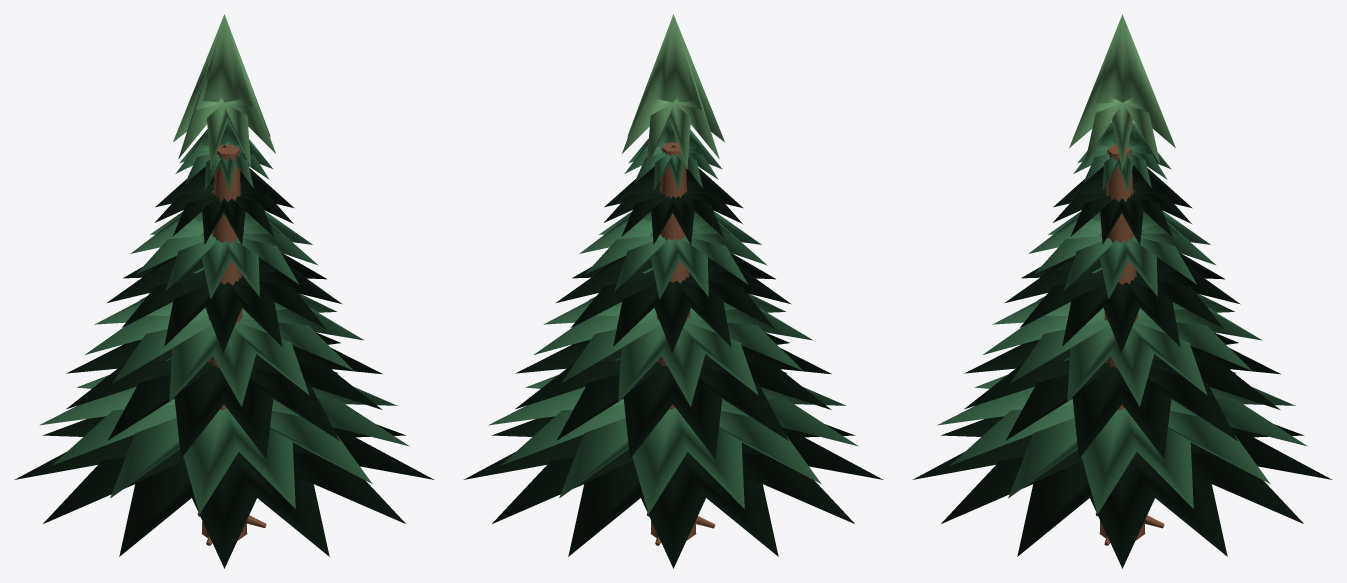
The model's file is alpine-pine.glb.
The picture shows the model from 3 angles, left to right: view 1: azimuth 30°, elevation 25°; view 2: azimuth 150°, elevation 25°; view 3: azimuth 270°, elevation 25°; orthographic projection.
Visible parts, largest first — view 1: Merged_foliage-deep, Merged_foliage, Merged_foliage-light, Merged_bark; view 2: Merged_foliage-deep, Merged_foliage, Merged_foliage-light, Merged_bark; view 3: Merged_foliage-deep, Merged_foliage, Merged_foliage-light, Merged_bark.
Boxes of the visible parts, x1=… form: Merged_foliage-deep: x1=14, y1=145, x2=434, y2=568; Merged_foliage: x1=39, y1=121, x2=409, y2=513; Merged_foliage-light: x1=173, y1=14, x2=275, y2=169; Merged_bark: x1=197, y1=145, x2=266, y2=545; Merged_foliage-deep: x1=463, y1=145, x2=883, y2=568; Merged_foliage: x1=488, y1=121, x2=858, y2=513; Merged_foliage-light: x1=622, y1=14, x2=724, y2=169; Merged_bark: x1=647, y1=142, x2=715, y2=545; Merged_foliage-deep: x1=912, y1=165, x2=1332, y2=568; Merged_foliage: x1=937, y1=121, x2=1307, y2=513; Merged_foliage-light: x1=1069, y1=14, x2=1175, y2=170; Merged_bark: x1=1095, y1=145, x2=1164, y2=545.
Size of what is drawn, in the model's own units: 3.37 by 4.59 by 3.37.
